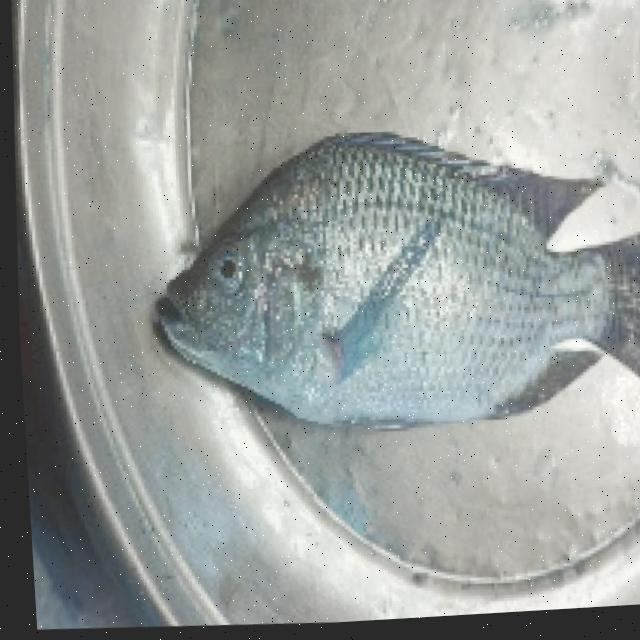Fresh: (129, 104, 640, 475)
